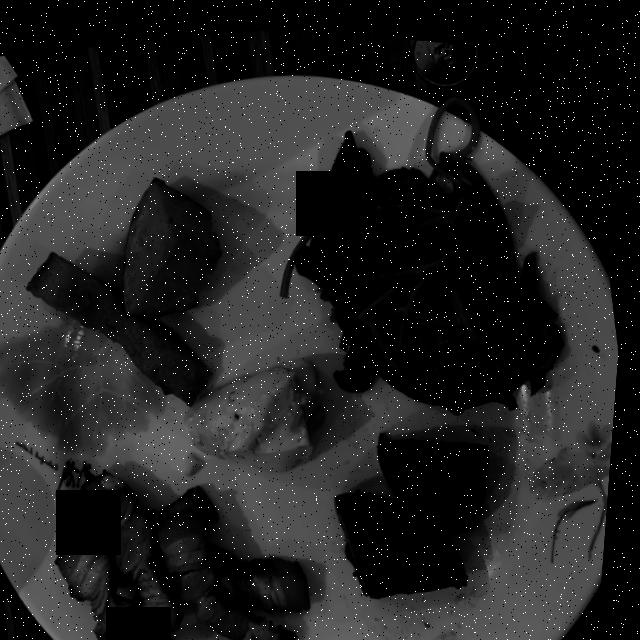coin: (412, 31, 478, 78)
grilled pork: (65, 468, 319, 640)
pumpkin: (31, 175, 225, 401)
sweet potato leaves: (299, 88, 568, 404)
